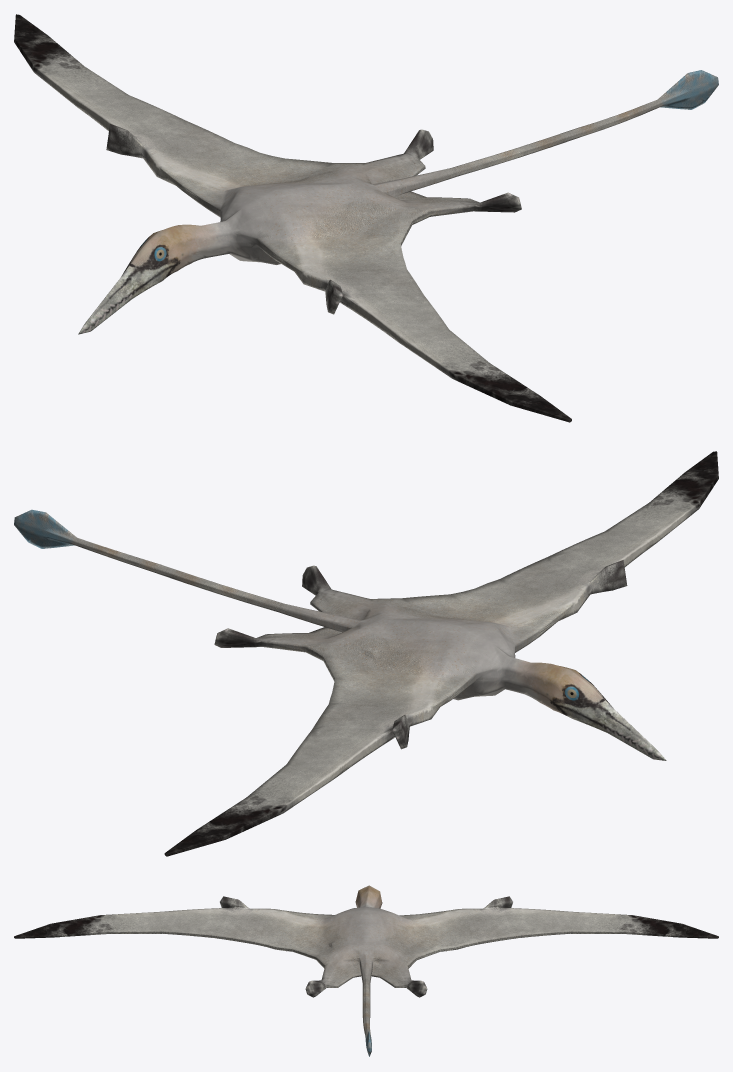
The picture shows the model from 3 angles, top to bottom: view 1: azimuth 30°, elevation 25°; view 2: azimuth 150°, elevation 25°; view 3: azimuth 270°, elevation 25°; orthographic projection. The views are drawn at different scales.
Visible parts, largest first — view 1: Animal; view 2: Animal; view 3: Animal.
Boxes of the visible parts, <box> form: Animal: <box>14,14,718,422</box>; Animal: <box>14,451,718,856</box>; Animal: <box>14,885,718,1056</box>.
Size of the model in its own units: 2.16 by 0.3363 by 3.2.
Materials: 1 (1 with a texture image).
